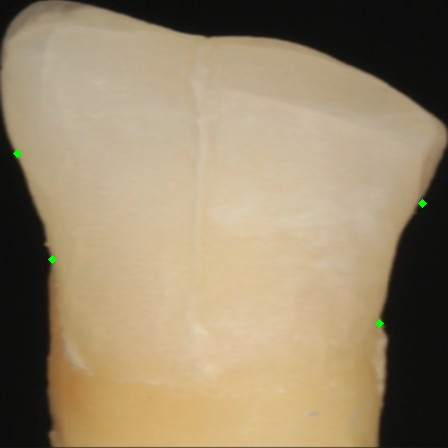coin_1: (379, 323, 399, 343)
coin_2: (422, 203, 442, 223)
coin_3: (52, 259, 72, 279)
coin_4: (17, 153, 37, 173)
